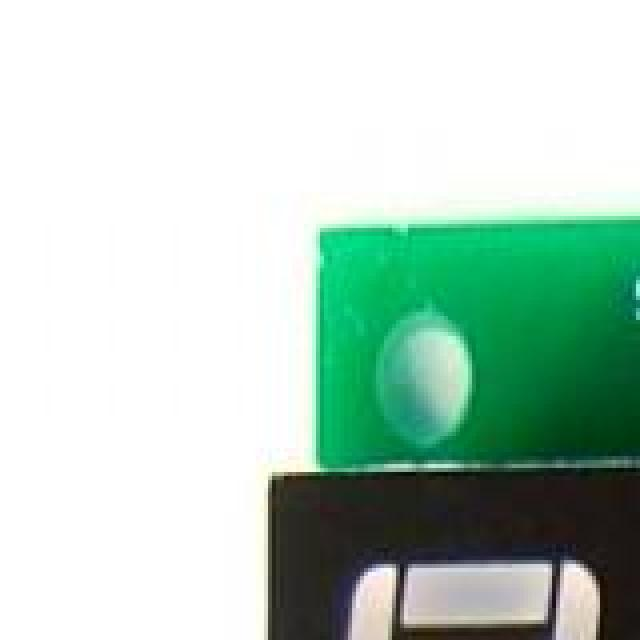display: (260, 432, 640, 640)
